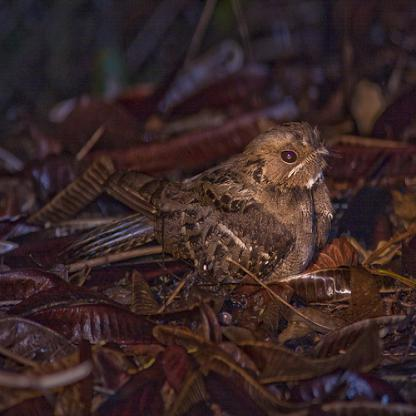bird: (63, 120, 336, 280)
